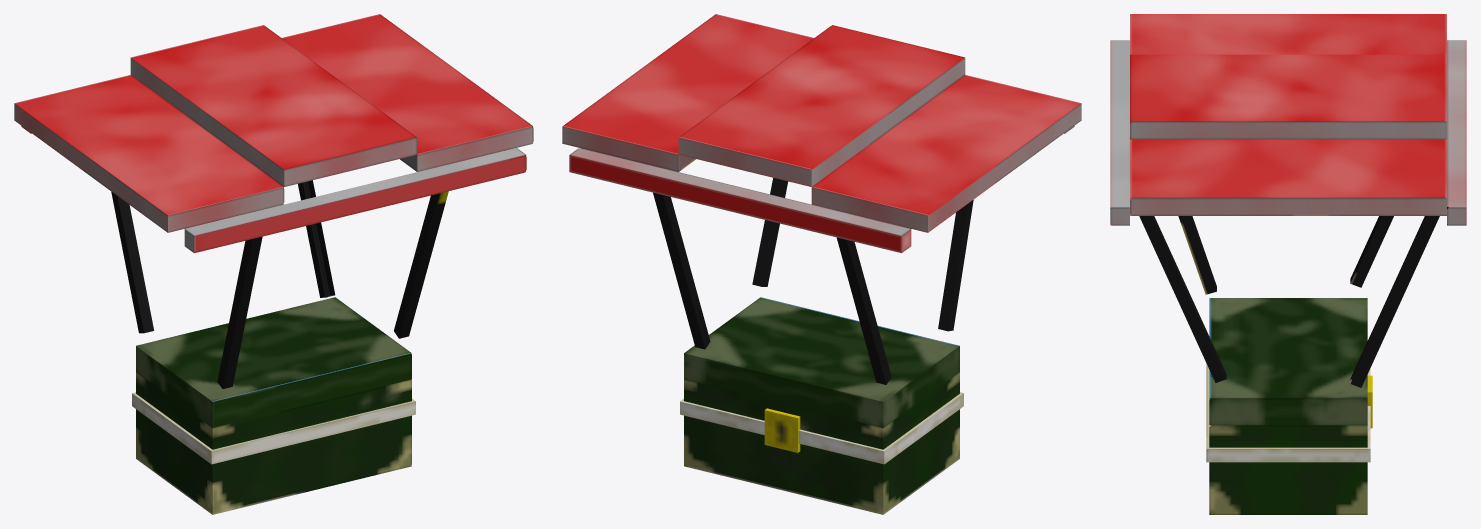
The model's file is airdrop_crate_flying.obj.
3 renders of one model, left to right at view 1: azimuth 30°, elevation 25°; view 2: azimuth 150°, elevation 25°; view 3: azimuth 270°, elevation 25°, orthographic. The views are drawn at different scales.
Visible parts, largest first — view 1: canopy_white_center, canopy_red_left, chest_lid, chest_body, canopy_red_right, canopy_back_lip, metal_band_middle, rope_back_left, rope_back_right, rope_front_left, rope_front_right; view 2: canopy_white_center, canopy_red_left, chest_lid, chest_body, canopy_red_right, canopy_front_lip, metal_band_middle, rope_front_right, rope_front_left, rope_back_left, front_lock, rope_back_right; view 3: canopy_white_center, canopy_red_right, chest_lid, canopy_red_left, chest_body, canopy_front_lip, canopy_back_lip, metal_band_middle, rope_front_right, rope_back_right, rope_back_left, rope_front_left.
Boxes of the visible parts, x1,y1,x2,y2 form: canopy_white_center: (130, 25, 417, 186); canopy_red_left: (14, 75, 284, 232); chest_lid: (136, 297, 411, 427); chest_body: (136, 372, 411, 514); canopy_red_right: (282, 14, 533, 171); canopy_back_lip: (184, 148, 526, 253); metal_band_middle: (132, 392, 415, 464); rope_back_left: (217, 236, 262, 388); rope_back_right: (394, 191, 448, 338); rope_front_left: (111, 192, 154, 333); rope_front_right: (298, 180, 335, 297); canopy_white_center: (678, 25, 965, 186); canopy_red_left: (811, 75, 1081, 232); chest_lid: (684, 297, 959, 427); chest_body: (684, 372, 959, 514); canopy_red_right: (562, 14, 813, 171); canopy_front_lip: (569, 148, 911, 253); metal_band_middle: (680, 392, 963, 464); rope_front_right: (653, 192, 710, 349); rope_front_left: (836, 237, 891, 384); rope_back_left: (938, 200, 973, 331); front_lock: (764, 408, 800, 452); rope_back_right: (752, 178, 788, 286); canopy_white_center: (1130, 54, 1446, 139); canopy_red_right: (1130, 139, 1446, 215); chest_lid: (1209, 298, 1367, 425); canopy_red_left: (1130, 14, 1446, 54); chest_body: (1209, 398, 1367, 514); canopy_front_lip: (1447, 40, 1466, 225); canopy_back_lip: (1110, 40, 1129, 225); metal_band_middle: (1206, 363, 1370, 462); rope_front_right: (1350, 216, 1439, 387); rope_back_right: (1139, 216, 1226, 382); rope_back_left: (1178, 216, 1216, 294); rope_front_left: (1350, 216, 1393, 287).
Size of the model in its own units: 2.75 by 2.62 by 2.25.
